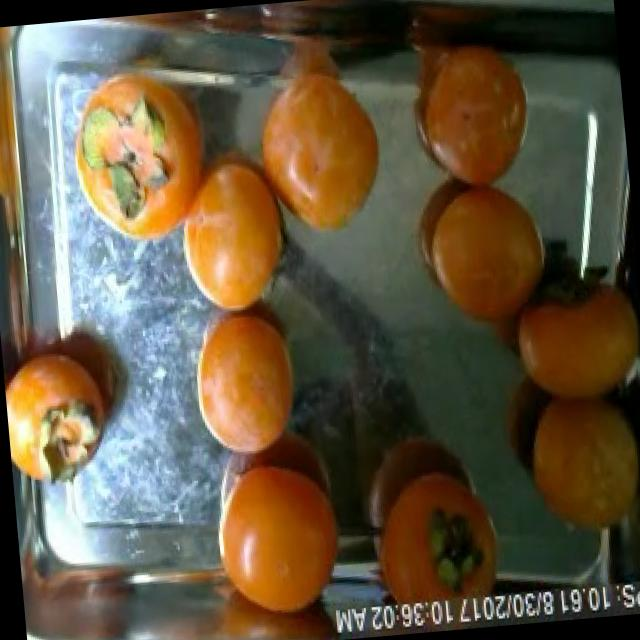Fruit: (232, 30, 404, 262), (193, 420, 364, 634), (395, 155, 569, 354), (167, 280, 323, 478), (387, 22, 550, 208), (497, 361, 640, 559), (492, 0, 619, 85)
